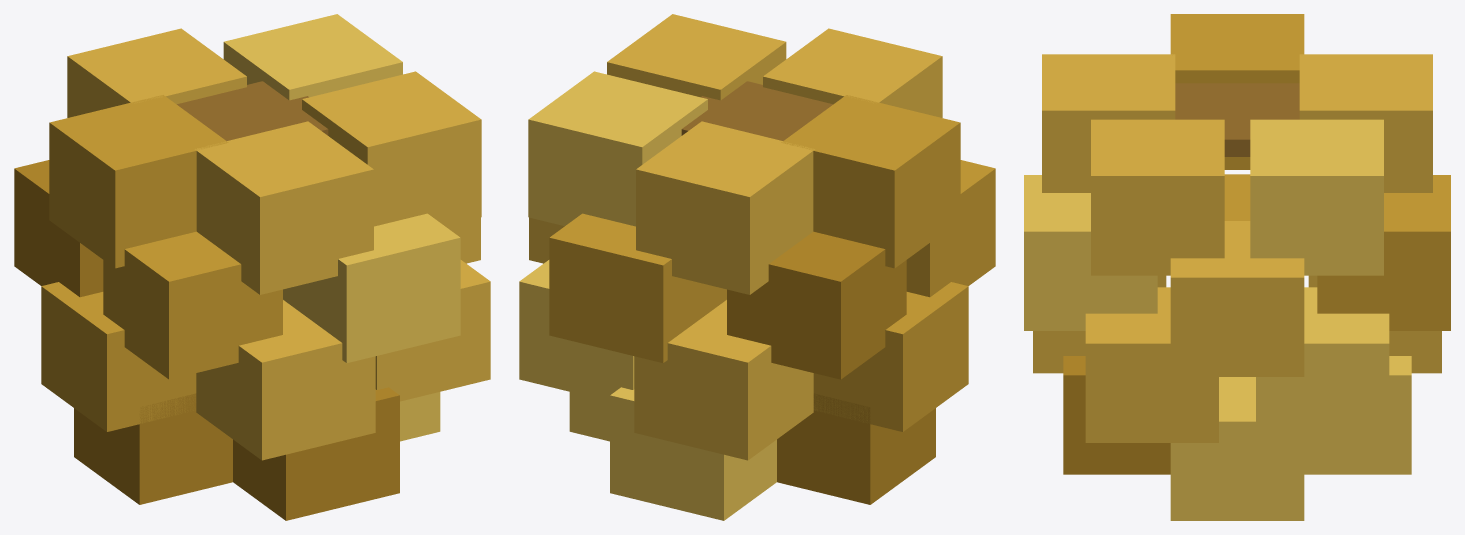
File: RB-03_anne.glb
The picture shows the model from 3 angles, left to right: view 1: azimuth 30°, elevation 25°; view 2: azimuth 150°, elevation 25°; view 3: azimuth 270°, elevation 25°; orthographic projection.
Parts seen in each view (by area): view 1: Anne · original workbench cubes; view 2: Anne · original workbench cubes; view 3: Anne · original workbench cubes.
Part boxes in pixels (x1=…): Anne · original workbench cubes: x1=14, y1=14, x2=490, y2=520; Anne · original workbench cubes: x1=519, y1=14, x2=995, y2=520; Anne · original workbench cubes: x1=1024, y1=14, x2=1450, y2=520.
Bounding box in the file's own units: 0.1104 × 0.096 × 0.1074.
